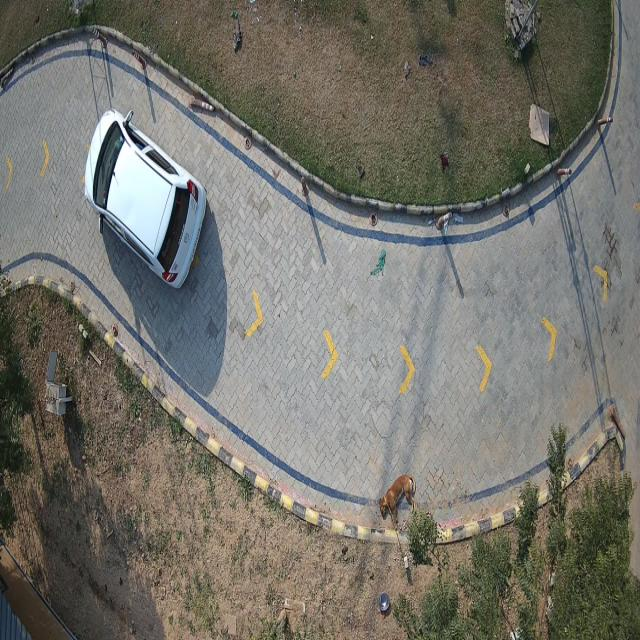car: (85, 109, 206, 288)
